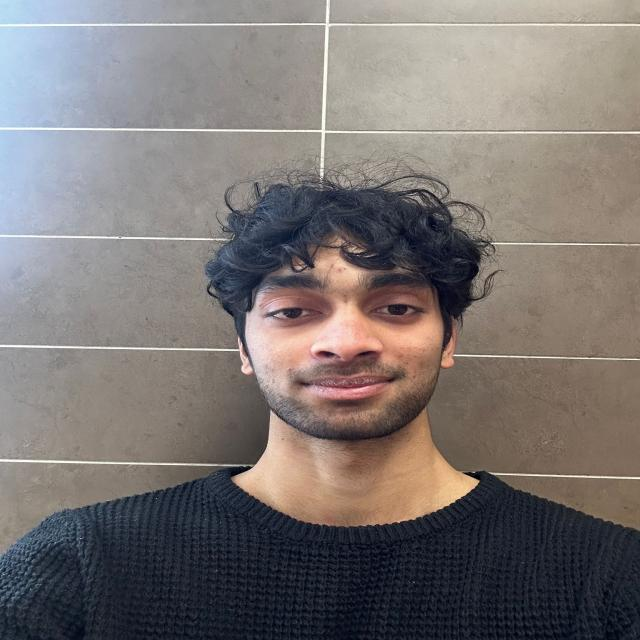nocap: (185, 158, 553, 312)
